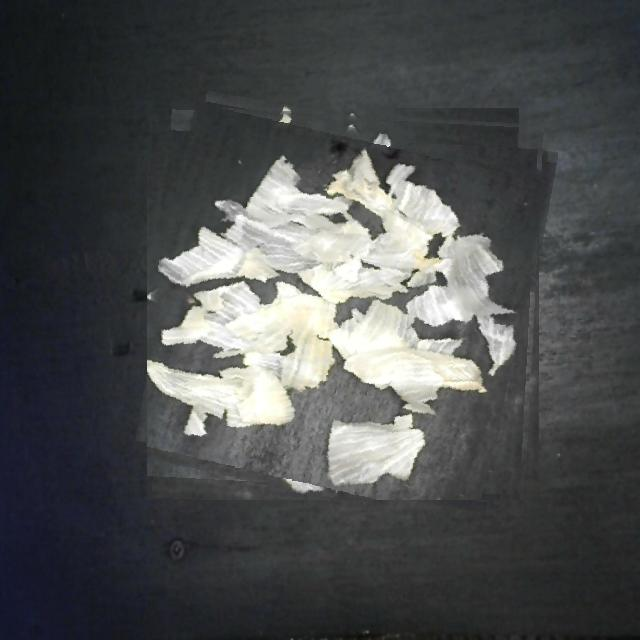biodegradable: (147, 104, 544, 500)
